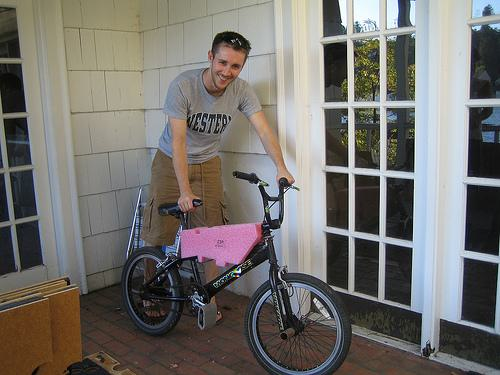car: (122, 171, 353, 375)
person: (139, 32, 297, 327)
